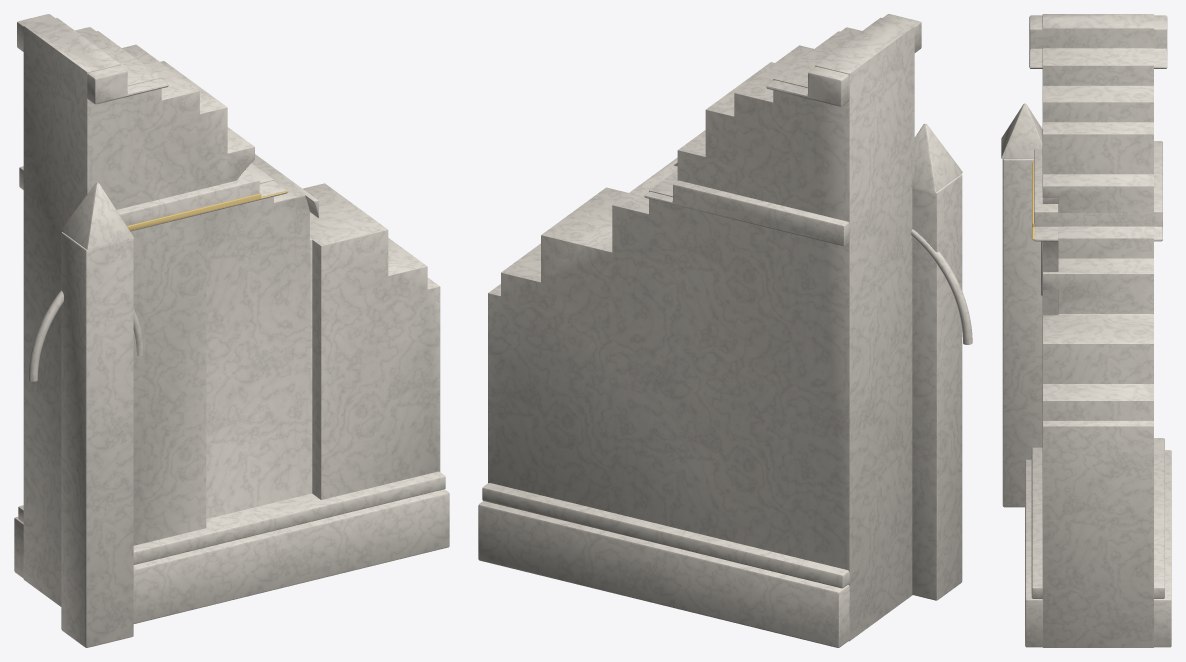
File: HolyWall_BrokenA.fbx
3 renders of one model, left to right at view 1: azimuth 30°, elevation 25°; view 2: azimuth 150°, elevation 25°; view 3: azimuth 270°, elevation 25°, orthographic. The views are drawn at different scales.
Parts seen in each view (by area): view 1: HolyWall_BrokenA; view 2: HolyWall_BrokenA; view 3: HolyWall_BrokenA.
Part boxes in pixels (left/top/right/bottom): HolyWall_BrokenA: left=14, top=14, right=449, bottom=647; HolyWall_BrokenA: left=478, top=14, right=972, bottom=647; HolyWall_BrokenA: left=1001, top=14, right=1171, bottom=647.
Size of the model in its own units: 9.29 by 12 by 3.84.
